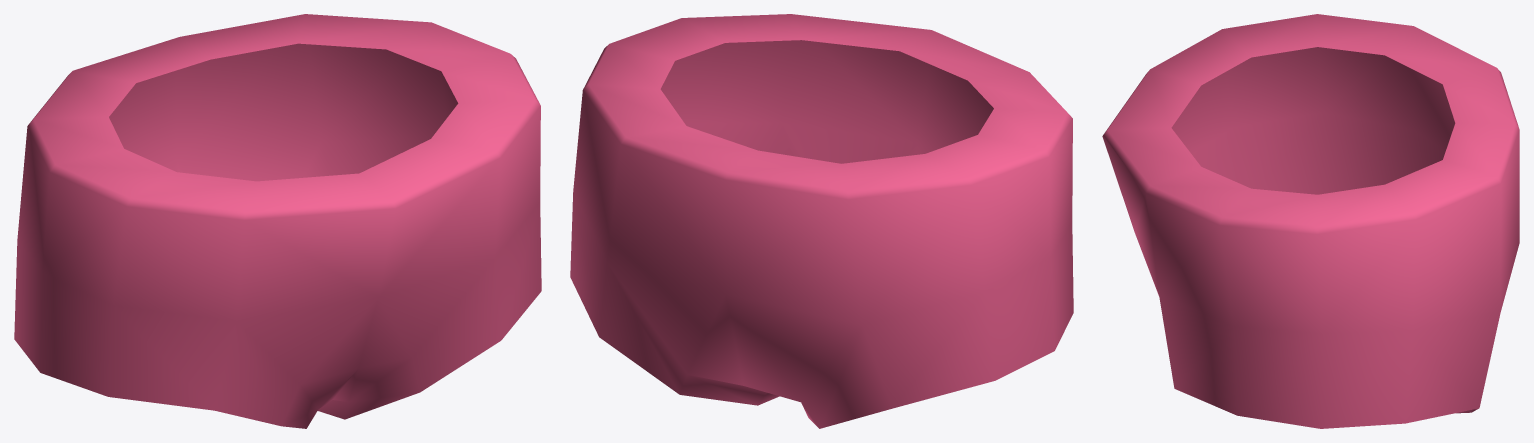
File: Pants_Pink_006.glb
3 renders of one model, left to right at view 1: azimuth 30°, elevation 25°; view 2: azimuth 150°, elevation 25°; view 3: azimuth 270°, elevation 25°, orthographic. The views are drawn at different scales.
Parts seen in each view (by area): view 1: Pants_Pink_006; view 2: Pants_Pink_006; view 3: Pants_Pink_006.
Part boxes in pixels (left/top/right/bottom): Pants_Pink_006: left=14, top=14, right=541, bottom=428; Pants_Pink_006: left=570, top=14, right=1073, bottom=428; Pants_Pink_006: left=1102, top=14, right=1519, bottom=428.
Size of the model in its own units: 0.4529 by 0.2677 by 0.3561.
Materials: 1 (1 with a texture image).
